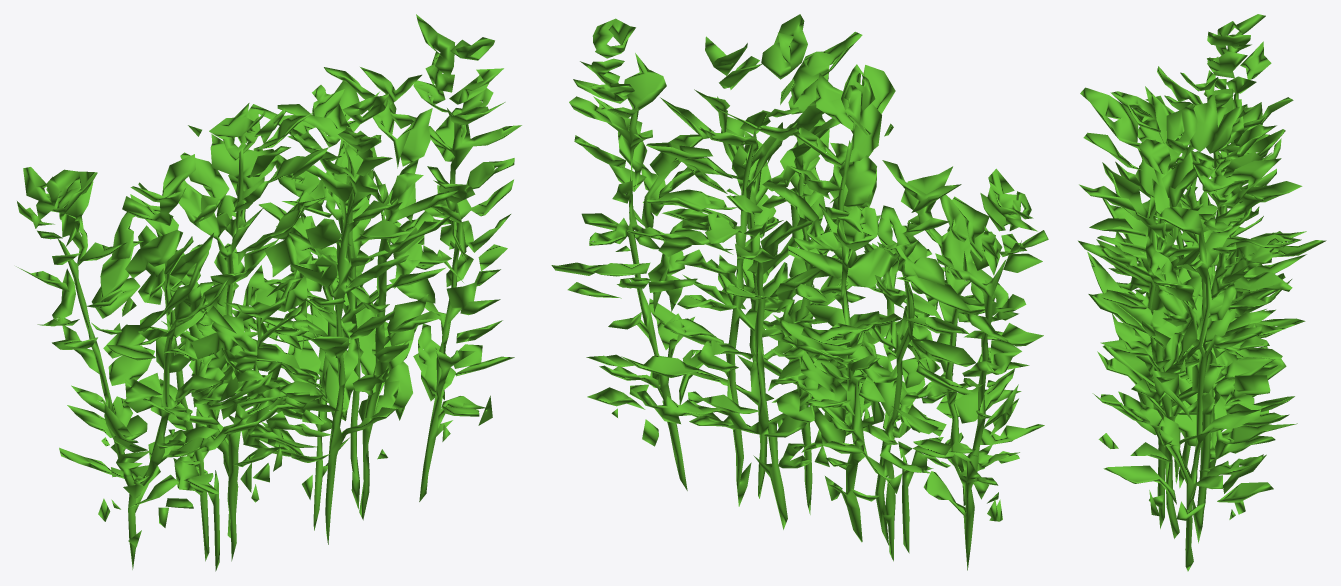
The model's file is soybean.glb.
The picture shows the model from 3 angles, left to right: view 1: azimuth 30°, elevation 25°; view 2: azimuth 150°, elevation 25°; view 3: azimuth 270°, elevation 25°; orthographic projection. The views are drawn at different scales.
Visible parts, largest first — view 1: Mesh1; view 2: Mesh1; view 3: Mesh1.
Boxes of the visible parts, x1,y1,x2,y2 form: Mesh1: (16,14,521,571); Mesh1: (551,14,1048,570); Mesh1: (1078,14,1326,571).
Size of the model in its own units: 2 by 1.92 by 0.9443.
